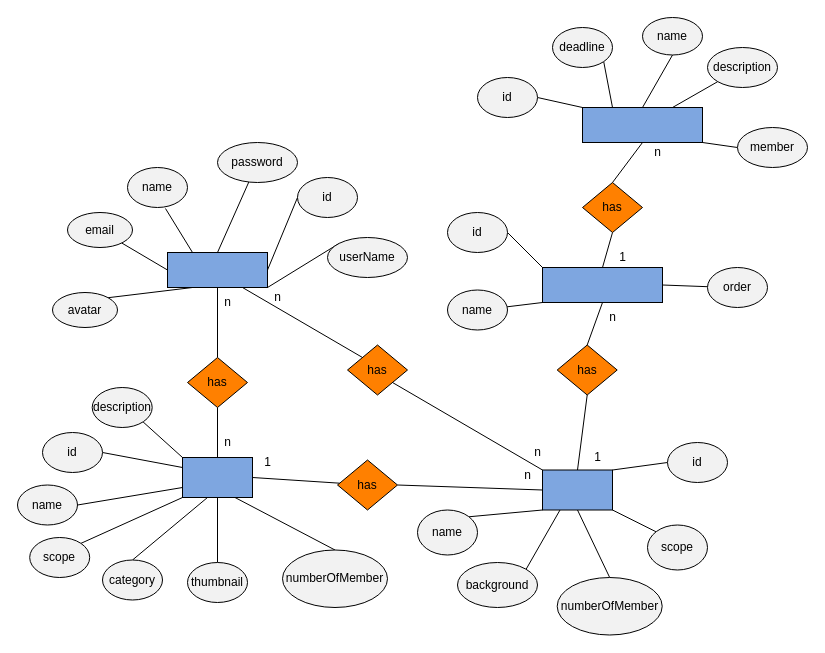
This 825x653 diagram has some shape labels left out. The centre of each missing label's shape, as x and y in pixels:
"Bảng công việc" belongs at point (577, 489).
"cột công việc" belongs at point (602, 284).
"Không gian làm việc" belongs at point (217, 477).
"thẻ công việc" belongs at point (642, 124).
"User" belongs at point (217, 270).
